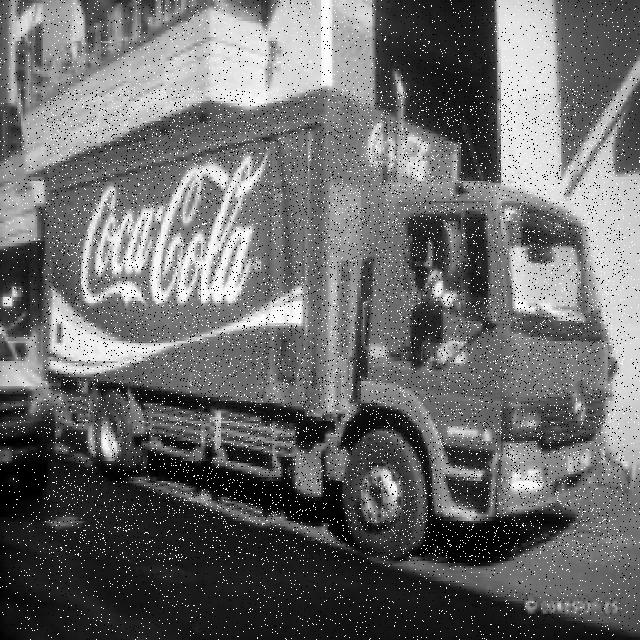Box Truck: (44, 89, 625, 561)
